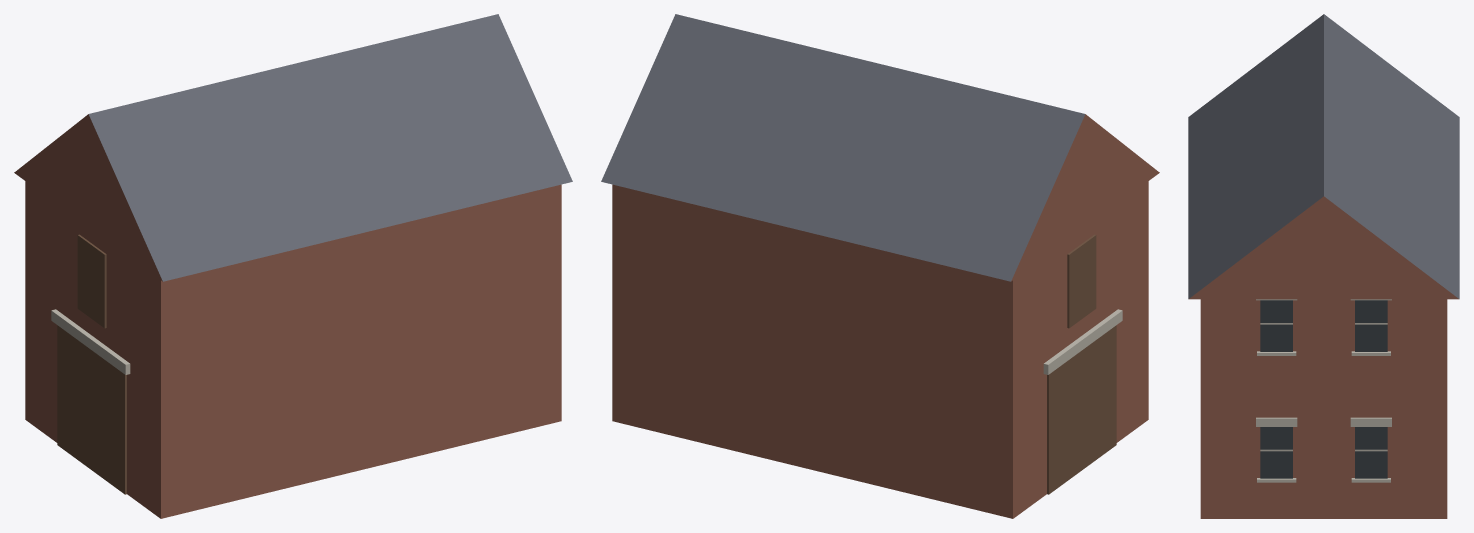
Rendered from house_2016_calumet_coach_house__draft_1904.glb.
3 renders of one model, left to right at view 1: azimuth 30°, elevation 25°; view 2: azimuth 150°, elevation 25°; view 3: azimuth 270°, elevation 25°, orthographic. The views are drawn at different scales.
Parts seen in each view (by area): view 1: house_2016_calumet_coach_house__draft_1904; view 2: house_2016_calumet_coach_house__draft_1904; view 3: house_2016_calumet_coach_house__draft_1904.
Boxes of the visible parts, x1,y1,x2,y2 form: house_2016_calumet_coach_house__draft_1904: (14, 14, 572, 518); house_2016_calumet_coach_house__draft_1904: (601, 14, 1159, 518); house_2016_calumet_coach_house__draft_1904: (1188, 14, 1459, 518).
Size of the model in its own units: 10.49 by 8.72 by 6.6.
